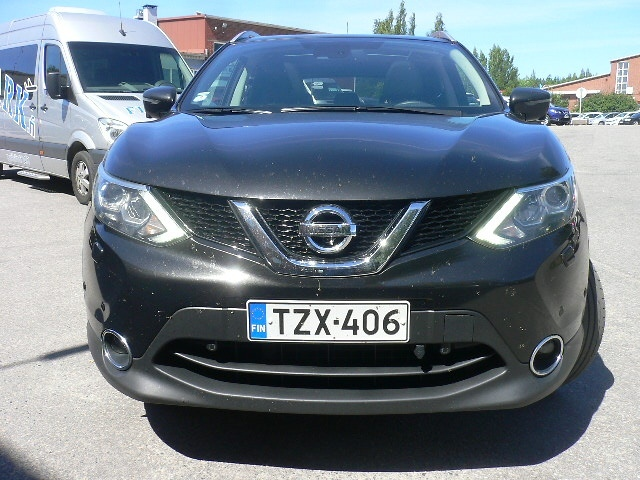license: (244, 301, 409, 346)
